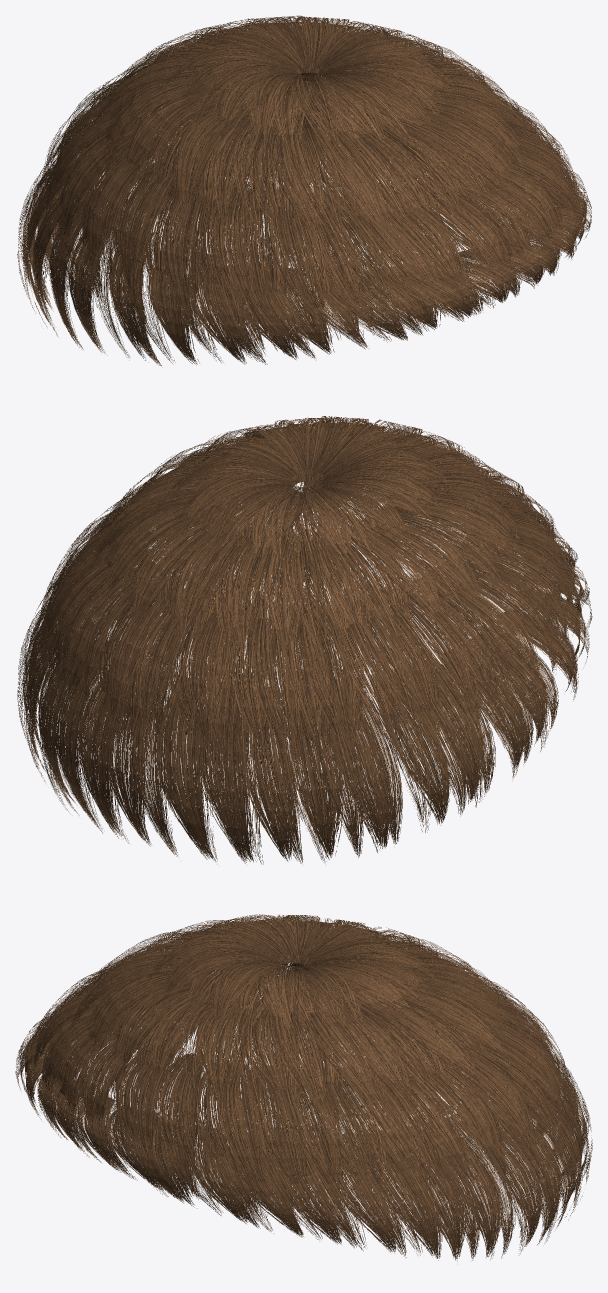
The model's file is short-adventurer-1e.glb.
3 views of the same model, one above another, from view 1: azimuth 30°, elevation 25°; view 2: azimuth 150°, elevation 25°; view 3: azimuth 270°, elevation 25° (orthographic). The views are drawn at different scales.
Visible parts, largest first — view 1: world; view 2: world; view 3: world.
Boxes of the visible parts, x1,y1,x2,y2 form: world: [17, 15, 591, 366]; world: [17, 416, 592, 864]; world: [15, 914, 592, 1261].
Bounding box in the file's own units: 0.2 × 0.1204 × 0.2274.
1 material, 1 textured.
